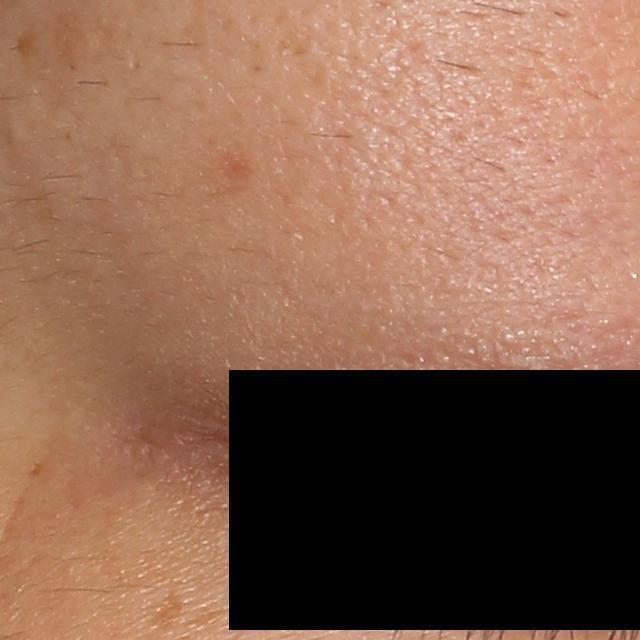melasma: (151, 590, 185, 629)
